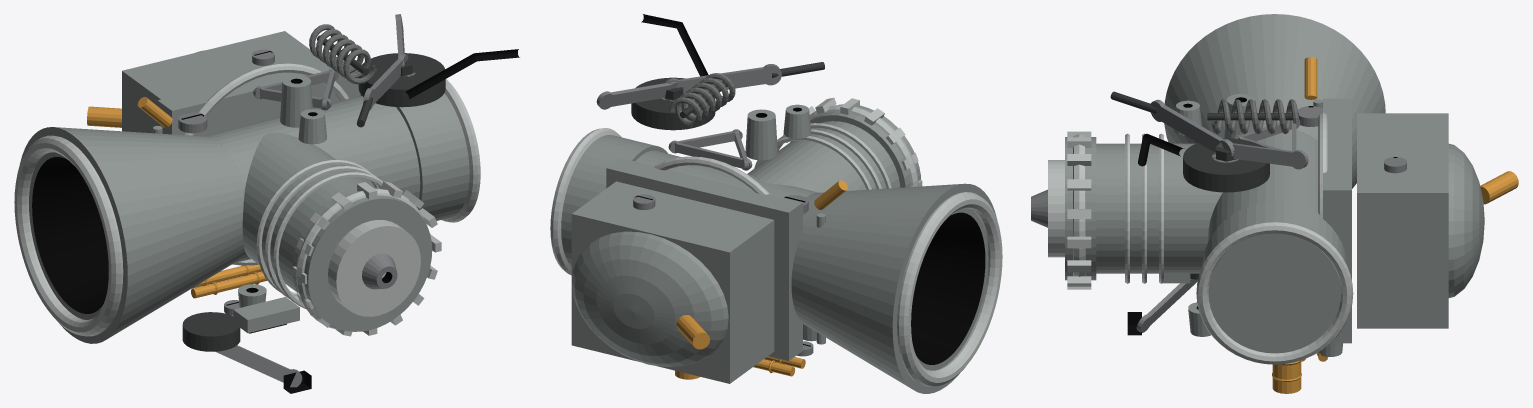
The model's file is carb_05_vintage_sidedraft.obj.
3 renders of one model, left to right at view 1: azimuth 30°, elevation 25°; view 2: azimuth 150°, elevation 25°; view 3: azimuth 270°, elevation 25°, orthographic. The views are drawn at different scales.
Visible parts, largest first — view 1: flared_bellmouth, flared_bellmouth_inner, main_venturi_body, vertical_slide_tower, float_bowl_upper_block, top_cap_lower, rounded_bell_lip, top_cable_boss, rear_outlet_spigot, machined_base_plate, flared_bellmouth_front_lip, throttle_pulley_disk (+19 smaller); view 2: float_bowl_upper_block, flared_bellmouth, float_bowl_rounded_lower, flared_bellmouth_inner, machined_base_plate, rounded_bell_lip, vertical_slide_tower, rear_outlet_spigot, flared_bellmouth_front_lip, return_spring, rear_outlet_bead, main_venturi_body (+18 smaller); view 3: float_bowl_upper_block, flared_bellmouth, rear_outlet_spigot, vertical_slide_tower, rear_outlet_bead, float_bowl_rounded_lower, main_venturi_body, machined_base_plate, throttle_pulley_disk, top_cap_lower, return_spring, top_cable_boss (+15 smaller).
Part boxes in pixels (<box>): flared_bellmouth: <box>54,127,244,338</box>; flared_bellmouth_inner: <box>32,157,108,313</box>; main_venturi_body: <box>204,95,420,262</box>; vertical_slide_tower: <box>242,132,373,291</box>; float_bowl_upper_block: <box>122,31,320,133</box>; top_cap_lower: <box>292,187,432,331</box>; rounded_bell_lip: <box>14,135,123,336</box>; top_cable_boss: <box>328,220,420,316</box>; rear_outlet_spigot: <box>360,93,469,220</box>; machined_base_plate: <box>157,60,360,136</box>; flared_bellmouth_front_lip: <box>20,127,127,343</box>; throttle_pulley_disk: <box>358,53,445,107</box>; float_bowl_upper_block: <box>571,181,774,383</box>; flared_bellmouth: <box>791,184,961,388</box>; float_bowl_rounded_lower: <box>571,231,728,366</box>; flared_bellmouth_inner: <box>911,212,985,364</box>; machined_base_plate: <box>606,158,802,360</box>; rounded_bell_lip: <box>897,192,1002,386</box>; vertical_slide_tower: <box>747,121,900,192</box>; rear_outlet_spigot: <box>561,135,667,266</box>; flared_bellmouth_front_lip: <box>892,183,997,393</box>; return_spring: <box>669,73,735,126</box>; rear_outlet_bead: <box>550,128,621,275</box>; main_venturi_body: <box>635,150,817,197</box>; float_bowl_upper_block: <box>1357,113,1448,328</box>; flared_bellmouth: <box>1164,14,1385,188</box>; rear_outlet_spigot: <box>1202,202,1346,353</box>; vertical_slide_tower: <box>1096,143,1222,273</box>; rear_outlet_bead: <box>1196,222,1353,364</box>; float_bowl_rounded_lower: <box>1448,143,1484,297</box>; main_venturi_body: <box>1208,126,1321,241</box>; machined_base_plate: <box>1323,98,1351,343</box>; throttle_pulley_disk: <box>1183,138,1269,192</box>; top_cap_lower: <box>1065,137,1096,280</box>; return_spring: <box>1211,99,1299,133</box>; top_cable_boss: <box>1048,160,1064,257</box>.
Size of the model in its own units: 0.187 by 0.1337 by 0.2021.
